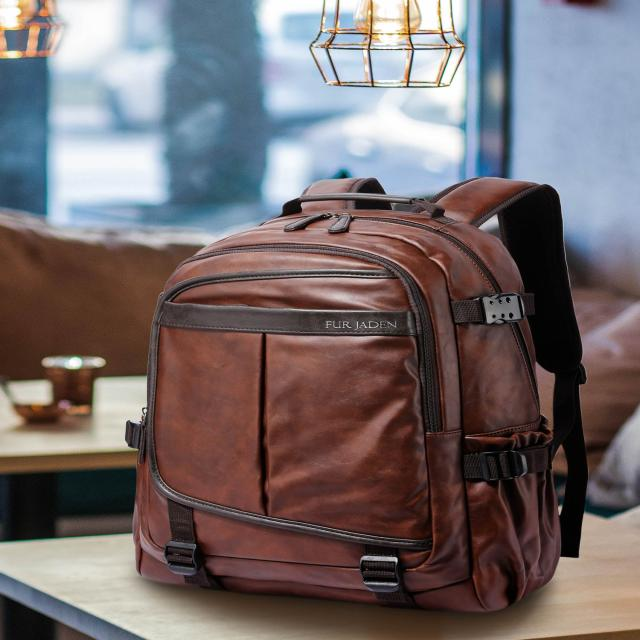backpack: (127, 176, 591, 615)
